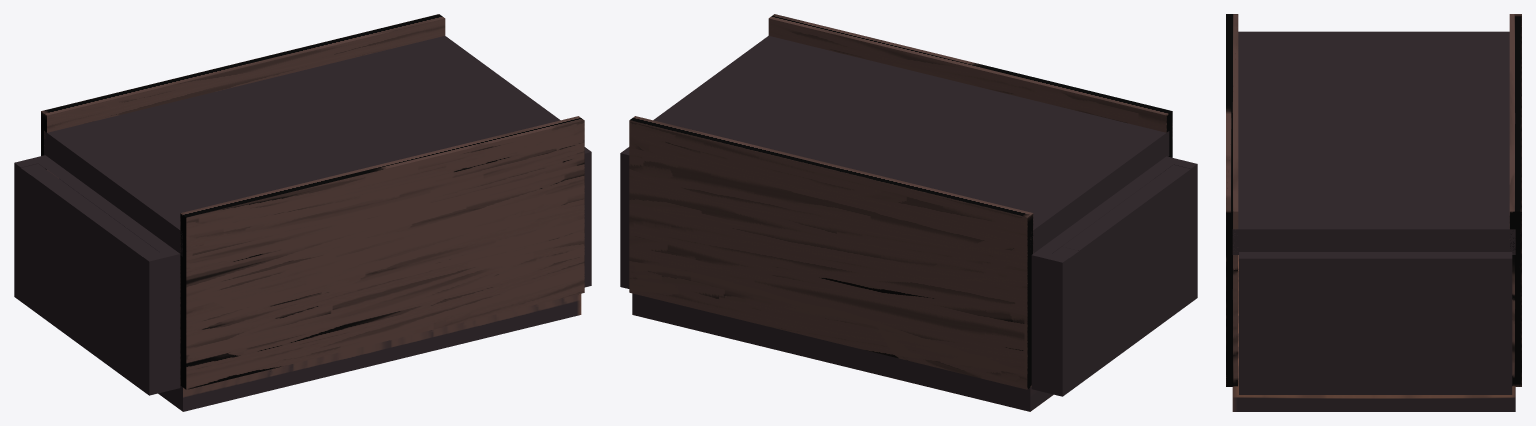
The model's file is Environment.fbx.
3 views of the same model, side by side, from view 1: azimuth 30°, elevation 25°; view 2: azimuth 150°, elevation 25°; view 3: azimuth 270°, elevation 25° (orthographic).
Visible parts, largest first — view 1: sidewall001, floor.003, backwall.002, wall, floor.005, customerwall.001; view 2: wall, floor.003, backwall.002, sidewall001, floor.005, customerwall.001; view 3: floor.003, customerwall.001, floor.005, sidewall001, wall.
Part boxes in pixels (x1,y1,x2,y2): sidewall001: (180,116,584,389); floor.003: (44,36,560,256); backwall.002: (14,155,180,395); wall: (41,14,445,178); floor.005: (158,294,581,411); customerwall.001: (584,147,591,287); wall: (629,116,1033,389); floor.003: (653,35,1169,253); backwall.002: (1031,156,1197,396); sidewall001: (768,14,1172,157); floor.005: (632,293,1053,411); customerwall.001: (620,147,629,288); floor.003: (1232,31,1515,254); customerwall.001: (1239,252,1512,394); floor.005: (1232,255,1515,411); sidewall001: (1226,14,1238,386); wall: (1509,14,1521,386).
Bounding box in the file's own units: 8793 × 3734 × 5001.
